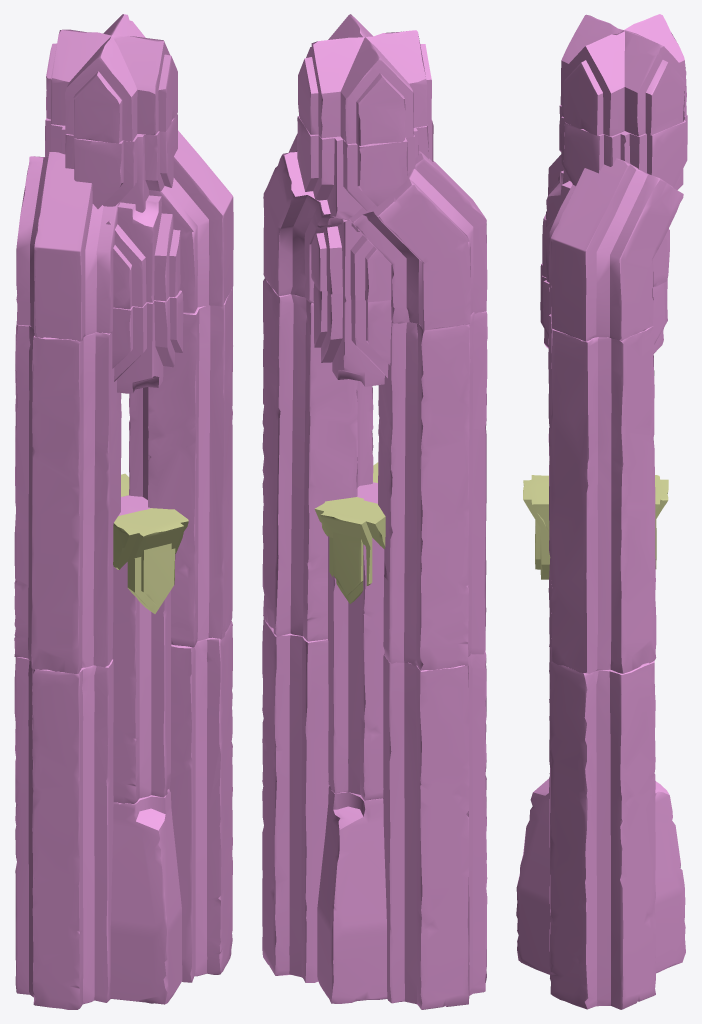
File: cluster_stone_03_base.fbx
3 renders of one model, left to right at view 1: azimuth 30°, elevation 25°; view 2: azimuth 150°, elevation 25°; view 3: azimuth 270°, elevation 25°, orthographic.
Visible parts, largest first — view 1: cluster_stone_03_base_LOD0; view 2: cluster_stone_03_base_LOD0; view 3: cluster_stone_03_base_LOD0.
Boxes of the visible parts, x1,y1,x2,y2 form: cluster_stone_03_base_LOD0: (14,14,233,1009); cluster_stone_03_base_LOD0: (262,14,487,1009); cluster_stone_03_base_LOD0: (516,14,687,1009).
Size of what is drawn, in the model's own units: 312 by 1368 by 228.
